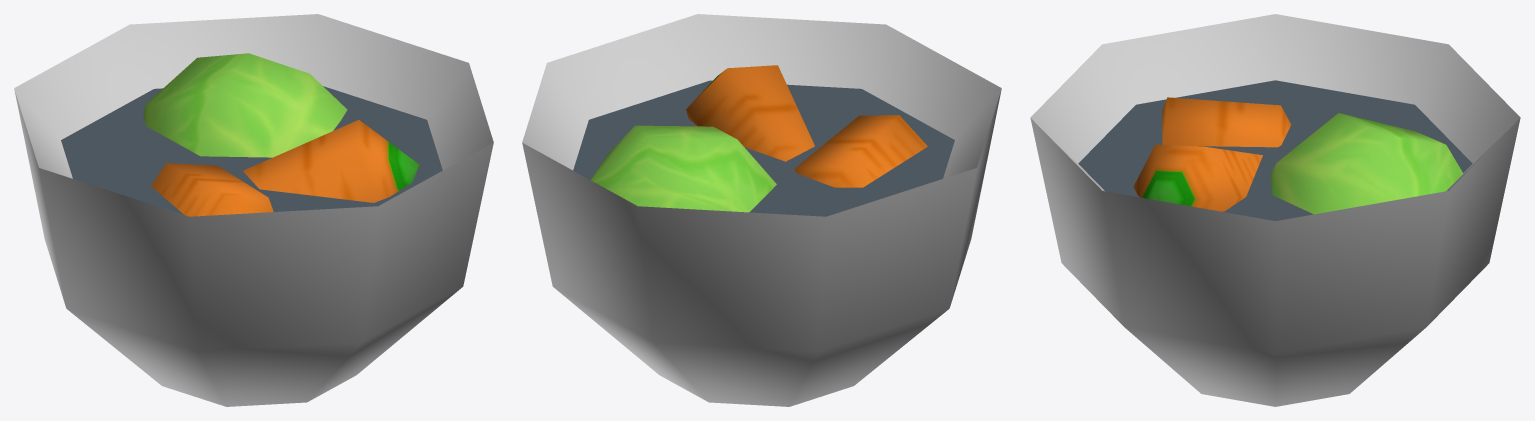
Rendered from Bowl01_c02.FBX.
3 views of the same model, side by side, from view 1: azimuth 30°, elevation 25°; view 2: azimuth 150°, elevation 25°; view 3: azimuth 270°, elevation 25° (orthographic).
Visible parts, largest first — view 1: Bowl01_c02; view 2: Bowl01_c02; view 3: Bowl01_c02.
Boxes of the visible parts, x1,y1,x2,y2 form: Bowl01_c02: (14,14,493,406); Bowl01_c02: (522,14,1001,406); Bowl01_c02: (1030,14,1520,406).
Size of the model in its own units: 64.8 by 36.64 by 64.8.
